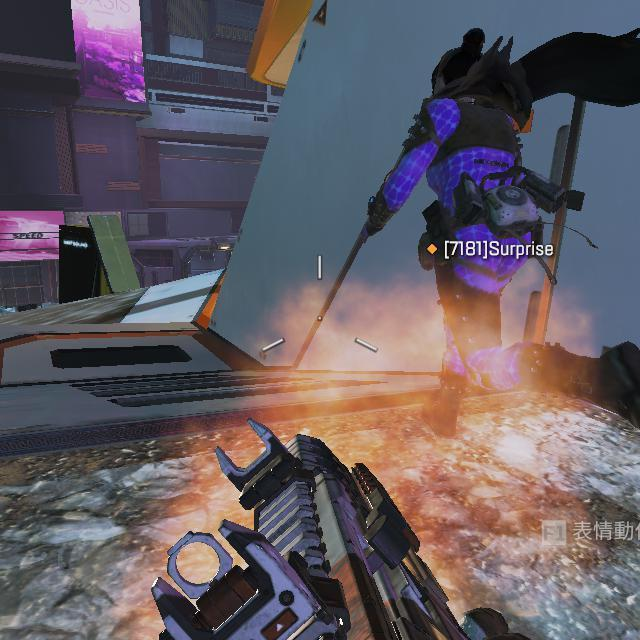avatar: (364, 27, 640, 439)
